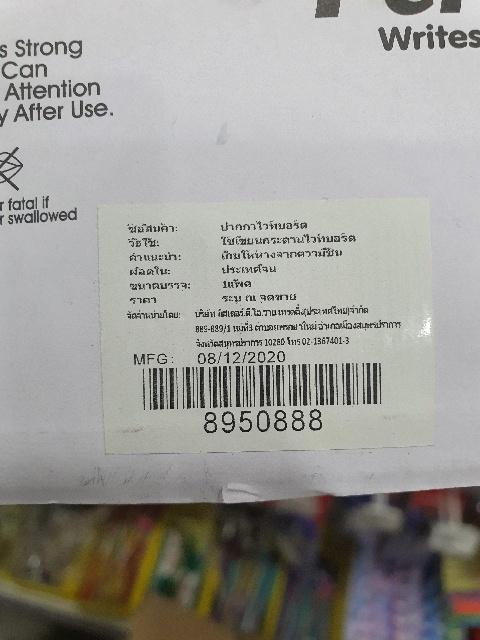Barcode: (129, 363, 388, 434)
